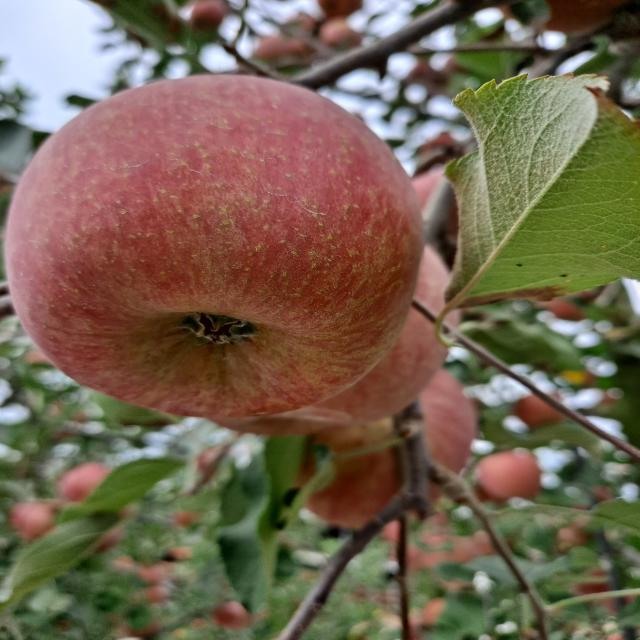fresh: (4, 65, 442, 430)
